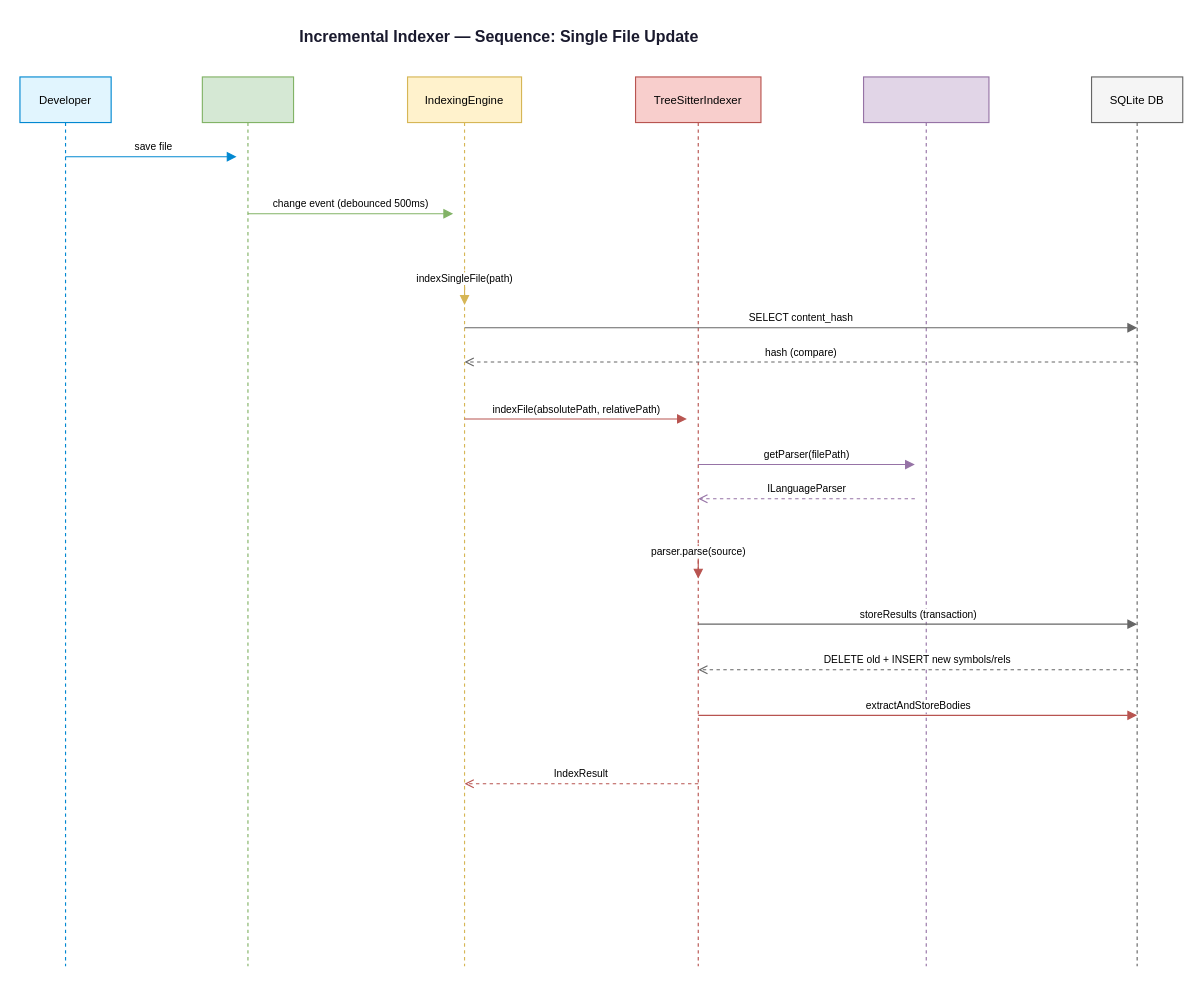
The diagram is 1203 pixels wide and 986 high, and some of its shapes have lost their labels. The shapes that lost their labels are listed below. From the top down, each one's box as (x1, y1, x2, y2) in pixels, then its label:
(201, 76, 294, 966): FileWatcher
(862, 76, 989, 966): GrammarRegistry
